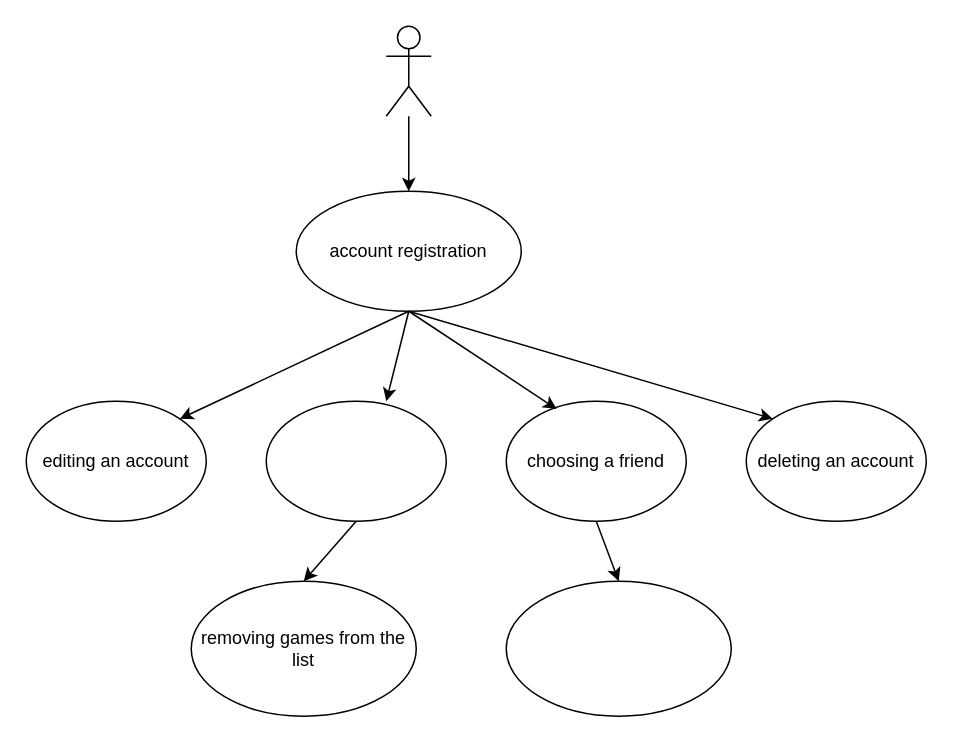
This 953x743 diagram has some shape labels left out. Each missing label, with the box of its shape:
game selection from the list: (265, 400, 446, 521)
removing friend from the list: (505, 580, 731, 716)
user: (385, 25, 431, 116)
